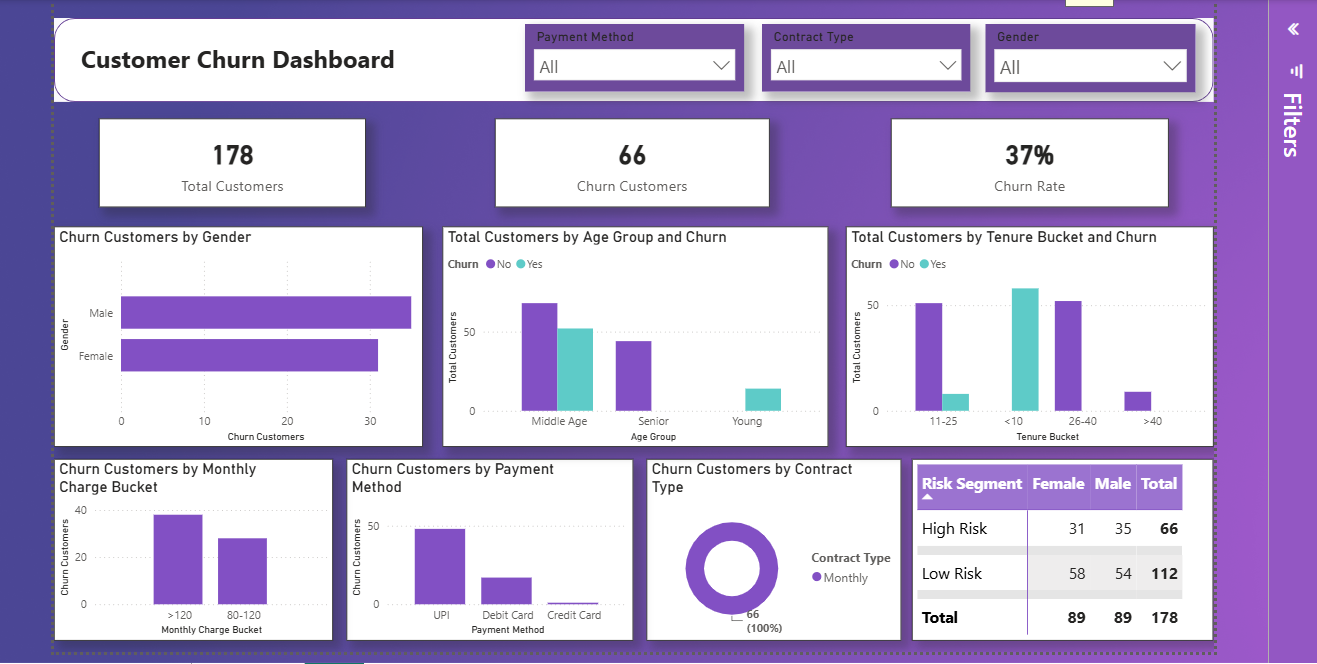

The dashboard page shown, as its layout file describes it:
{"tool":"powerbi","page":{"name":"Page 1","canvas":[1280,720],"ordinal":0},"visuals":[{"type":"card","fields":{"Values":["Measure.Total Customers"]},"box":[49.7,130.9,294.9,97.7],"z":0},{"type":"card","fields":{"Values":["Measure.Churn Rate"]},"box":[924.3,130.9,306.4,97.7],"z":1000},{"type":"card","fields":{"Values":["Measure.Churn Customers"]},"box":[487,130.9,303.1,97.7],"z":2000},{"type":"barChart","fields":{"Y":["Measure.Churn Customers"],"Category":["Customer_Churn_Data (1).Gender"]},"box":[0,250.1,407.5,243.5],"z":3000},{"type":"donutChart","fields":{"Category":["Customer_Churn_Data (1).Contract Type"],"Y":["Measure.Churn Customers"]},"box":[654.3,506.9,281.6,200.4],"z":4000},{"type":"clusteredColumnChart","fields":{"Category":["Customer_Churn_Data (1).Payment Method"],"Y":["Measure.Churn Customers"]},"box":[323,506.9,316.4,200.4],"z":5000},{"type":"clusteredColumnChart","fields":{"Category":["Customer_Churn_Data (1).Monthly Charge Bucket"],"Y":["Measure.Churn Customers"]},"box":[0,506.9,308.1,200.4],"z":6000},{"type":"clusteredColumnChart","fields":{"Category":["Customer_Churn_Data (1).Tenure Bucket"],"Y":["Measure.Total Customers"],"Series":["Customer_Churn_Data (1).Churn"]},"box":[874.6,250.1,405.8,243.5],"z":7000},{"type":"clusteredColumnChart","fields":{"Category":["Customer_Churn_Data (1).Age Group"],"Y":["Measure.Total Customers"],"Series":["Customer_Churn_Data (1).Churn"]},"box":[429,250.1,425.7,243.5],"z":8000},{"type":"pivotTable","fields":{"Rows":["Customer_Churn_Data (1).Risk Segment"],"Columns":["Customer_Churn_Data (1).Gender"],"Values":["Measure.Total Customers"]},"box":[947.5,506.9,333,200.4],"z":9000},{"type":"shape","box":[0,19.9,1280.5,92.8],"z":10000},{"type":"textbox","box":[24.8,41.4,579.8,56.3],"z":11000},{"type":"slicer","fields":{"Values":["Customer_Churn_Data (1).Gender"]},"box":[1028.7,26.5,231.9,75],"z":12000},{"type":"slicer","fields":{"Values":["Customer_Churn_Data (1).Contract Type"]},"box":[781.9,26.5,230.3,74.5],"z":13000},{"type":"slicer","fields":{"Values":["Customer_Churn_Data (1).Payment Method"]},"box":[520.1,26.5,241.8,74.5],"z":14000}]}

Visuals, with their boxes in screenshot pixels (x1, y1, x2, y2):
card - Measure.Total Customers: x1=93 y1=116 x2=362 y2=205
card - Measure.Churn Rate: x1=890 y1=116 x2=1170 y2=205
card - Measure.Churn Customers: x1=492 y1=116 x2=768 y2=205
barChart - Measure.Churn Customers x Customer_Churn_Data (1).Gender: x1=48 y1=224 x2=419 y2=446
donutChart - Customer_Churn_Data (1).Contract Type x Measure.Churn Customers: x1=644 y1=459 x2=901 y2=641
clusteredColumnChart - Customer_Churn_Data (1).Payment Method x Measure.Churn Customers: x1=342 y1=459 x2=631 y2=641
clusteredColumnChart - Customer_Churn_Data (1).Monthly Charge Bucket x Measure.Churn Customers: x1=48 y1=459 x2=329 y2=641
clusteredColumnChart - Customer_Churn_Data (1).Tenure Bucket x Measure.Total Customers: x1=845 y1=224 x2=1215 y2=446
clusteredColumnChart - Customer_Churn_Data (1).Age Group x Measure.Total Customers: x1=439 y1=224 x2=827 y2=446
pivotTable - Customer_Churn_Data (1).Risk Segment x Customer_Churn_Data (1).Gender: x1=912 y1=459 x2=1215 y2=641
shape: x1=48 y1=15 x2=1215 y2=99
textbox: x1=71 y1=34 x2=599 y2=86
slicer - Customer_Churn_Data (1).Gender: x1=986 y1=21 x2=1197 y2=89
slicer - Customer_Churn_Data (1).Contract Type: x1=761 y1=21 x2=970 y2=89
slicer - Customer_Churn_Data (1).Payment Method: x1=522 y1=21 x2=742 y2=89
